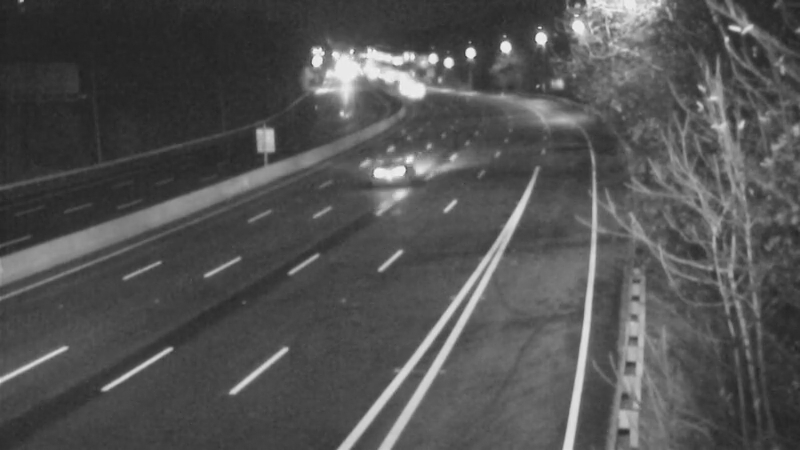vehicle: (347, 139, 427, 219), (387, 65, 437, 115)
